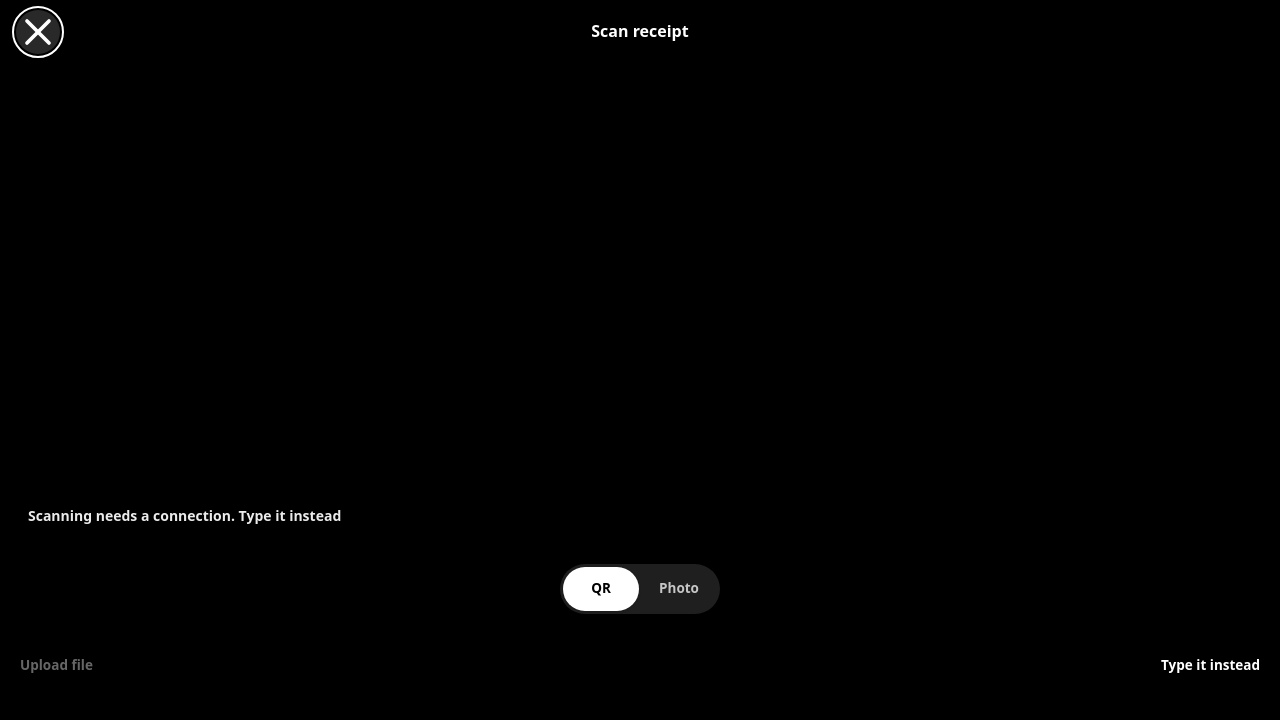
Test case: offline: no camera, Photo and Upload disabled
Expected: the text "Scanning needs a connection. Type it instead" is shown, [28,506,341,525]
Expected: the file field labelled "Upload file" is disabled, [20,656,93,674]
Click the button "Photo" at (679, 589), box [641,567,717,611]
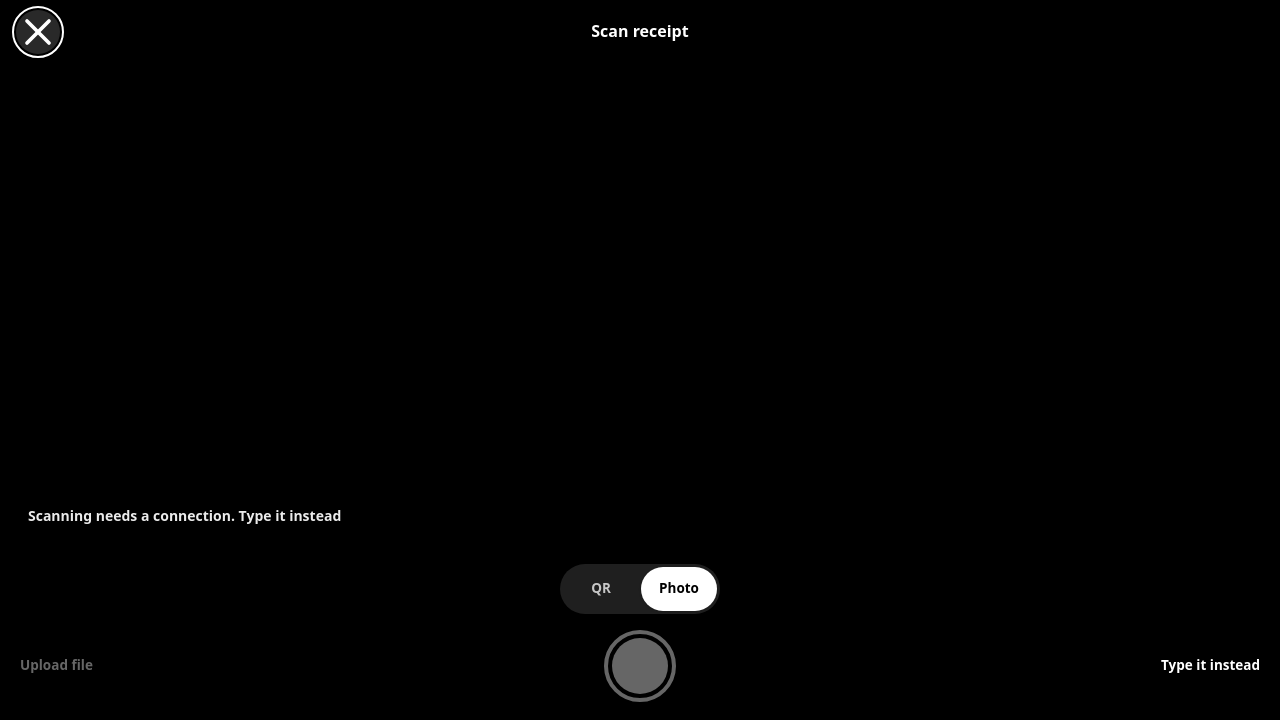
Result: the file field named "Take photo" is disabled at [604,630,676,702]
